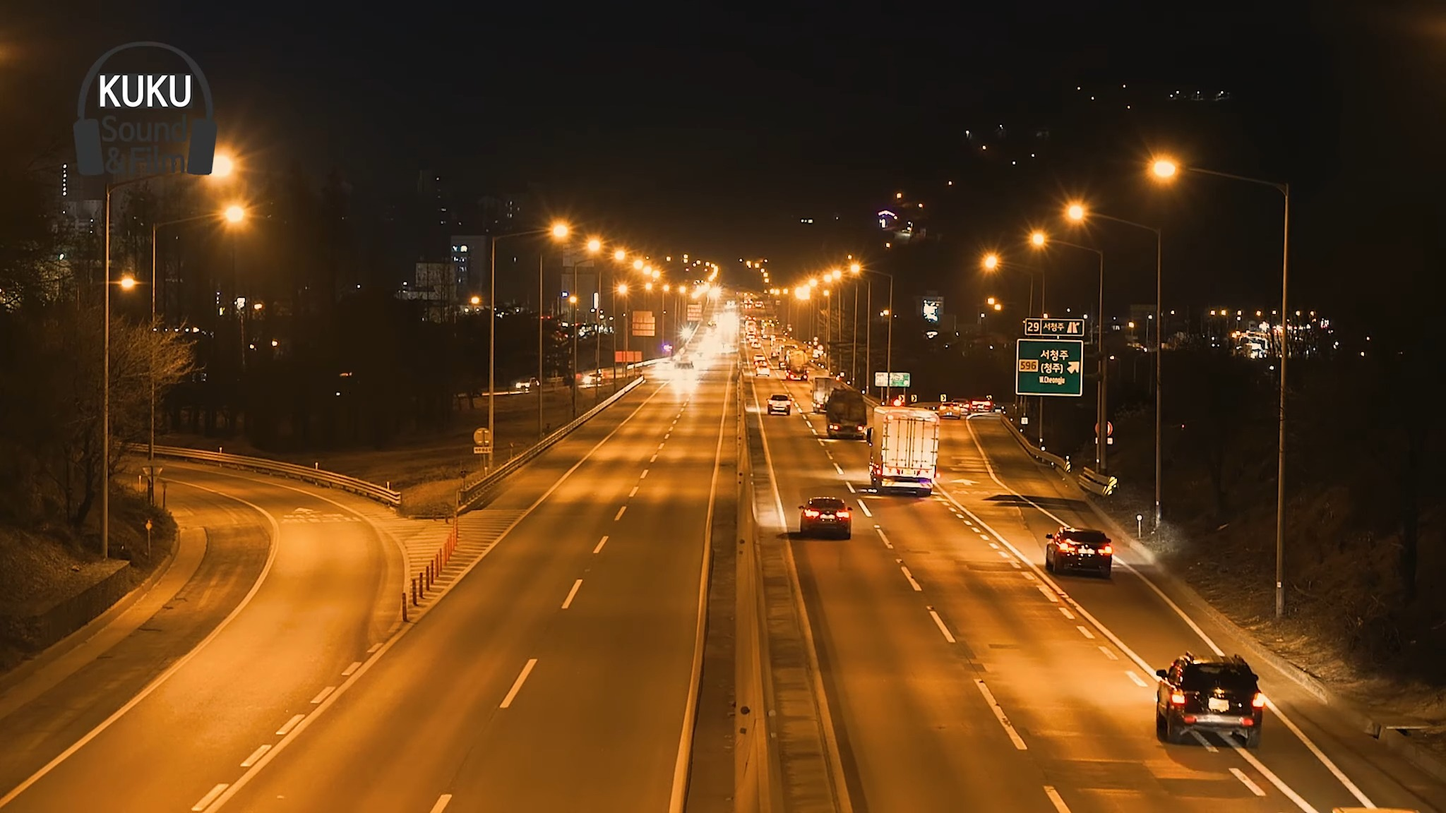car: (1158, 653, 1264, 745), (1045, 526, 1117, 576), (798, 496, 853, 540)
truck: (869, 403, 941, 495), (819, 383, 871, 446)
